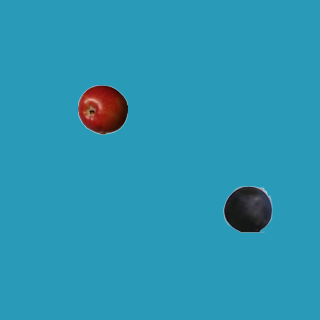Apple Braeburn: (77, 84, 127, 134)
Grape Blue: (222, 183, 272, 233)
